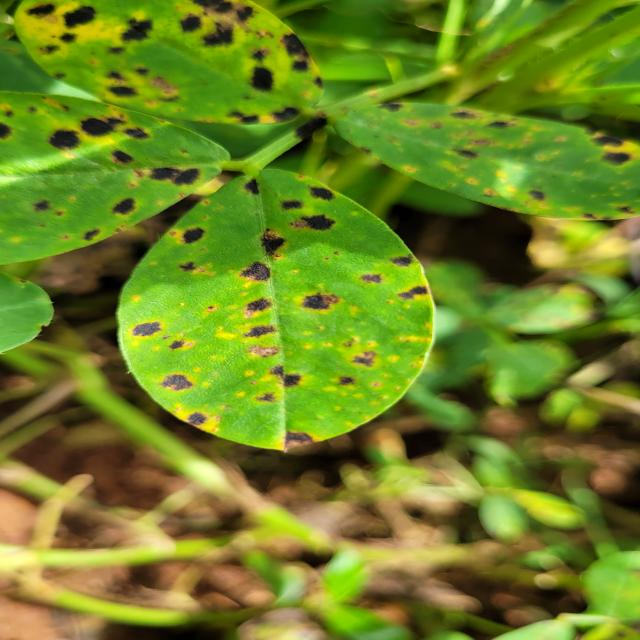Ground nut_tikka leaf spot: (118, 169, 436, 458), (19, 0, 328, 157), (353, 100, 629, 236)
